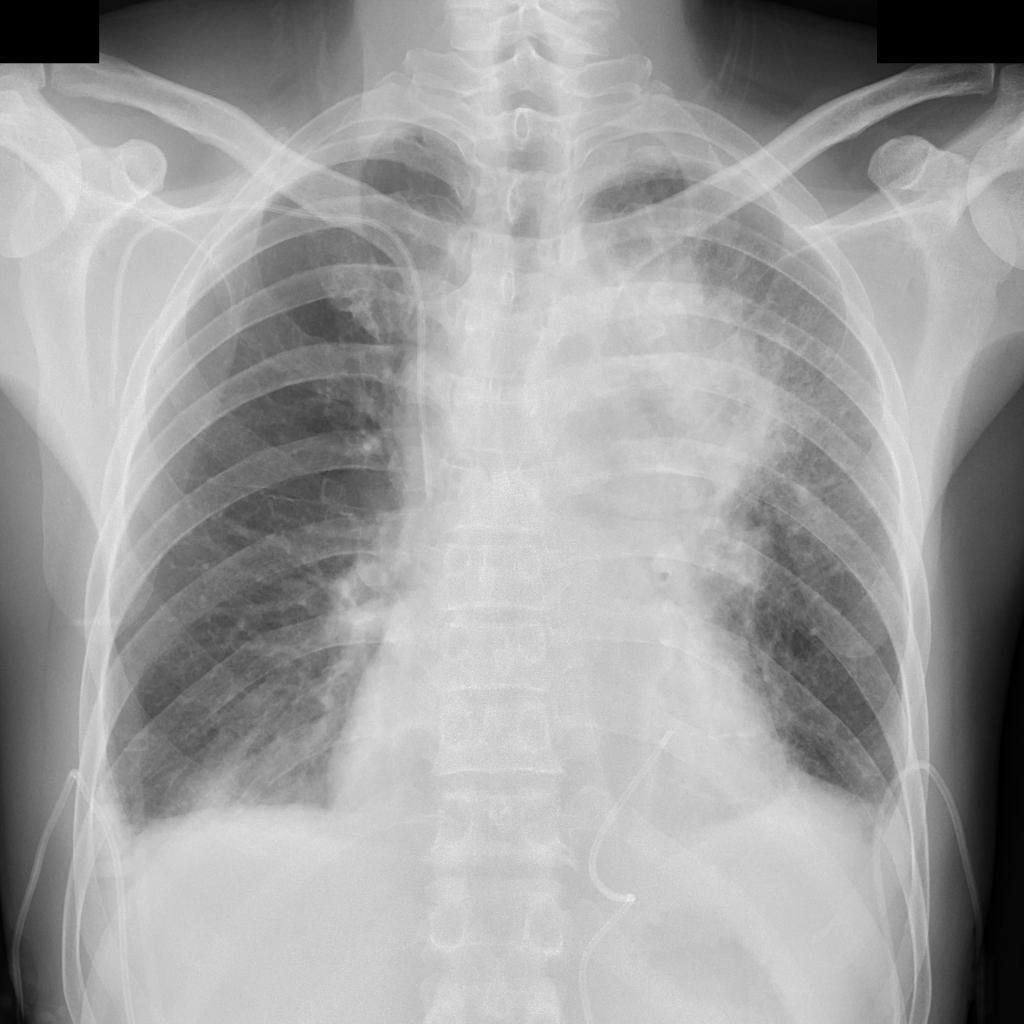Nodule: (553, 246, 774, 537)
